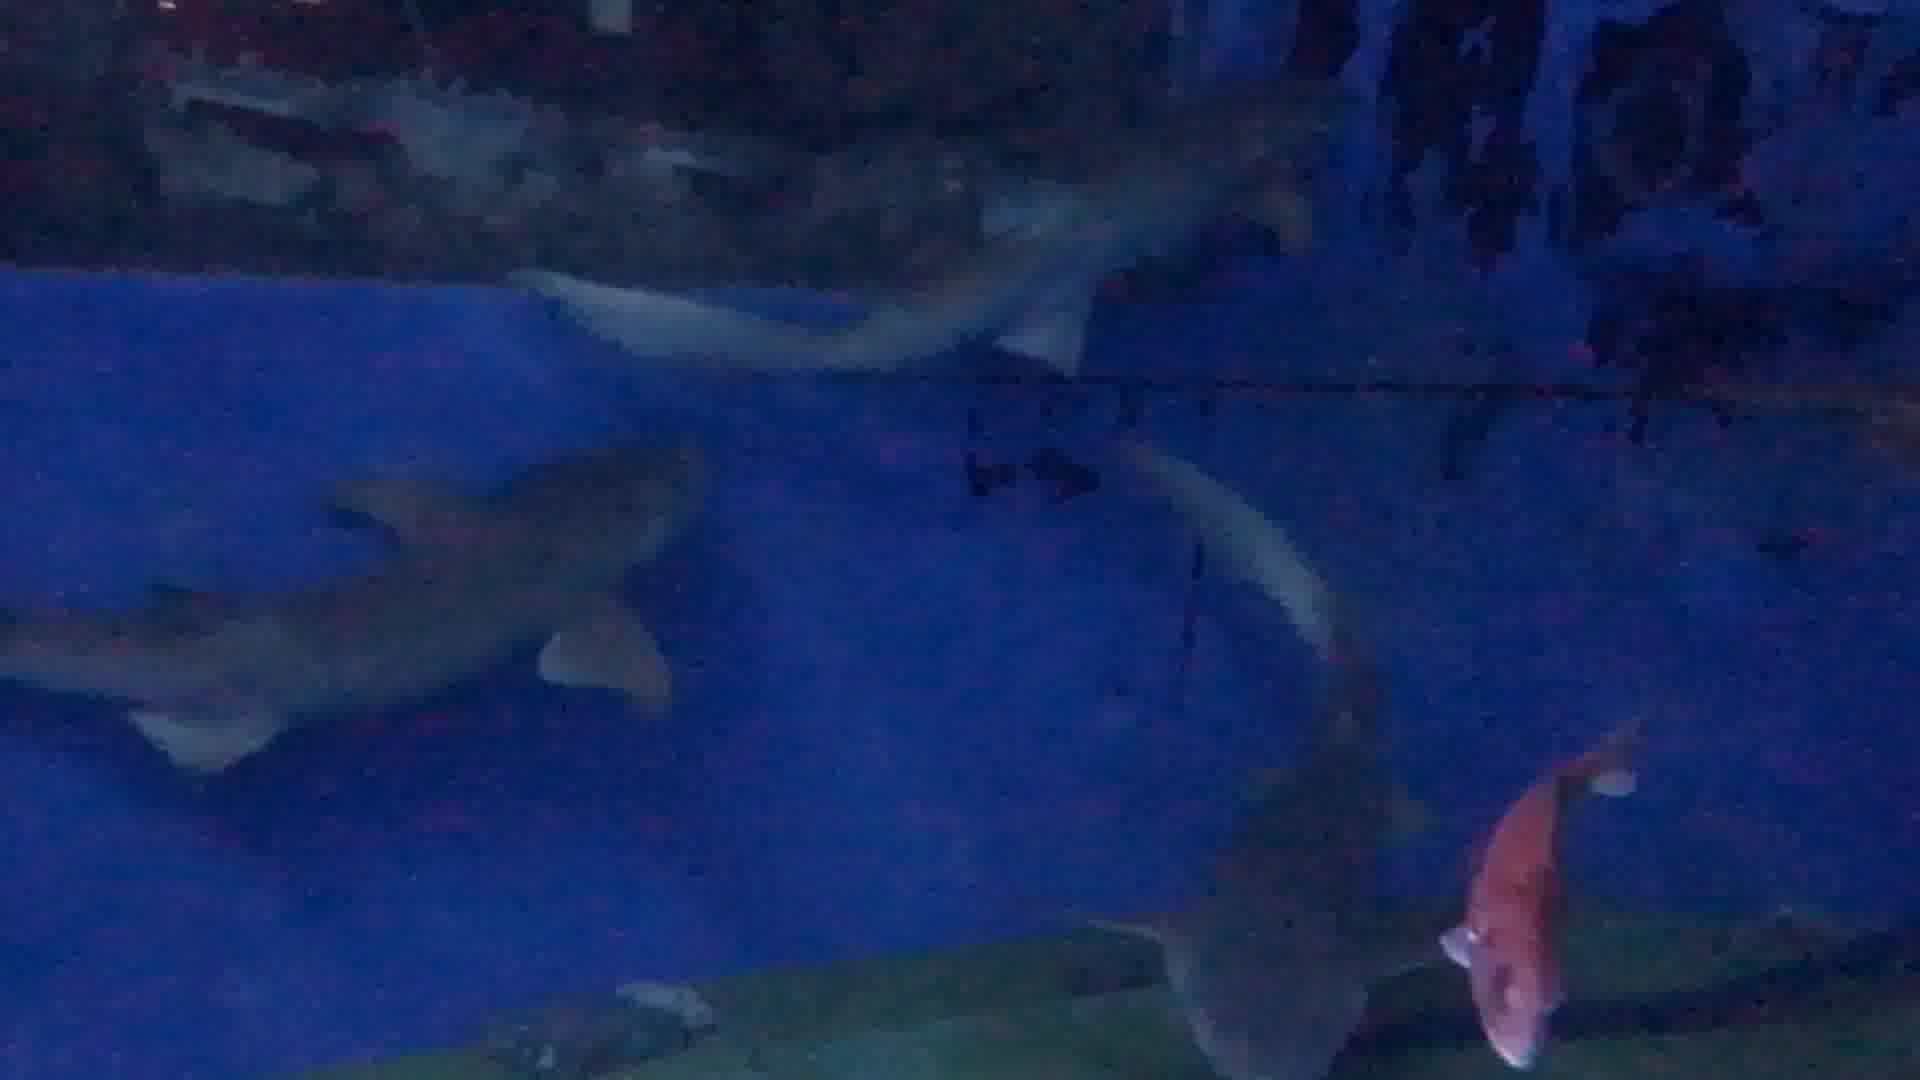Nebrius ferrugineus: (694, 1, 1422, 378), (87, 431, 713, 771), (1101, 505, 1422, 1080)
